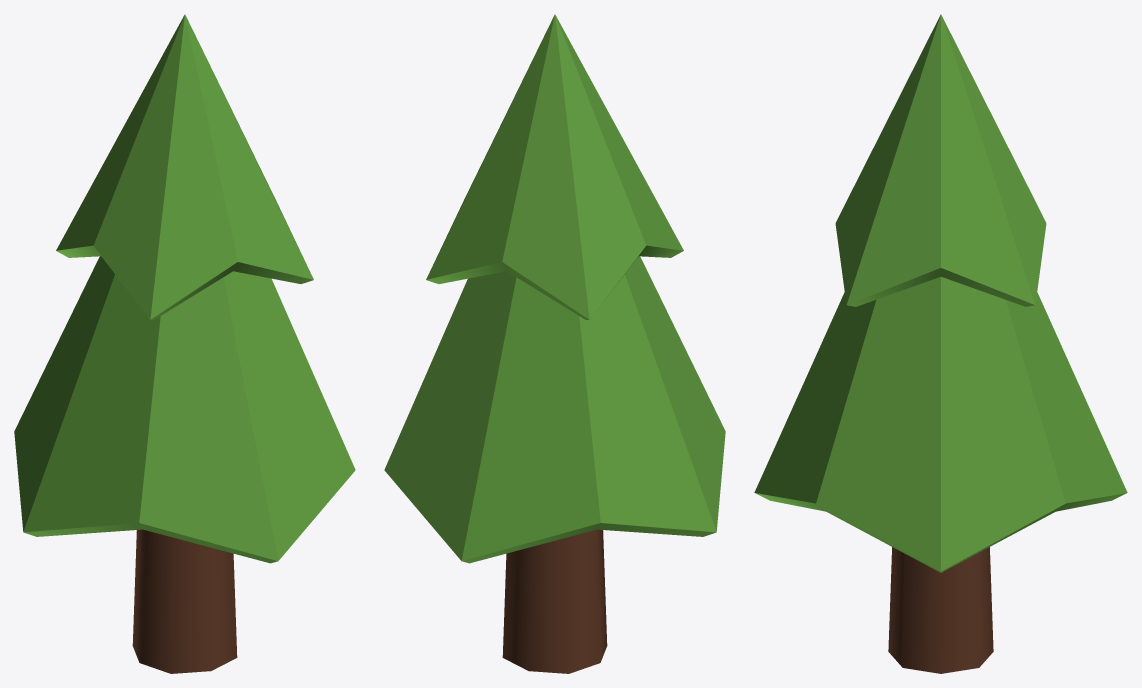
Rendered from Pine.lv.002.fbx.
3 views of the same model, side by side, from view 1: azimuth 30°, elevation 25°; view 2: azimuth 150°, elevation 25°; view 3: azimuth 270°, elevation 25° (orthographic).
Parts seen in each view (by area): view 1: Plane.027; view 2: Plane.027; view 3: Plane.027.
Boxes of the visible parts, x1,y1,x2,y2 form: Plane.027: [14, 14, 355, 673]; Plane.027: [384, 14, 725, 673]; Plane.027: [754, 14, 1127, 673].
Bounding box in the file's own units: 76.34 × 144 × 76.34.
